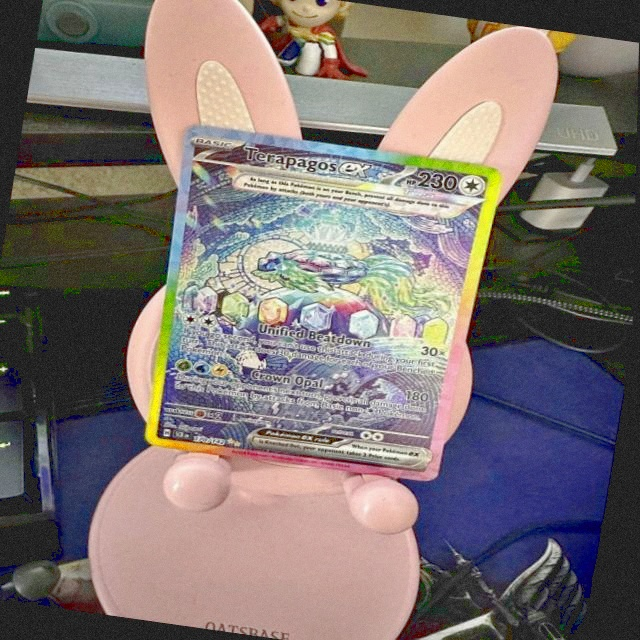card: (145, 123, 503, 481)
